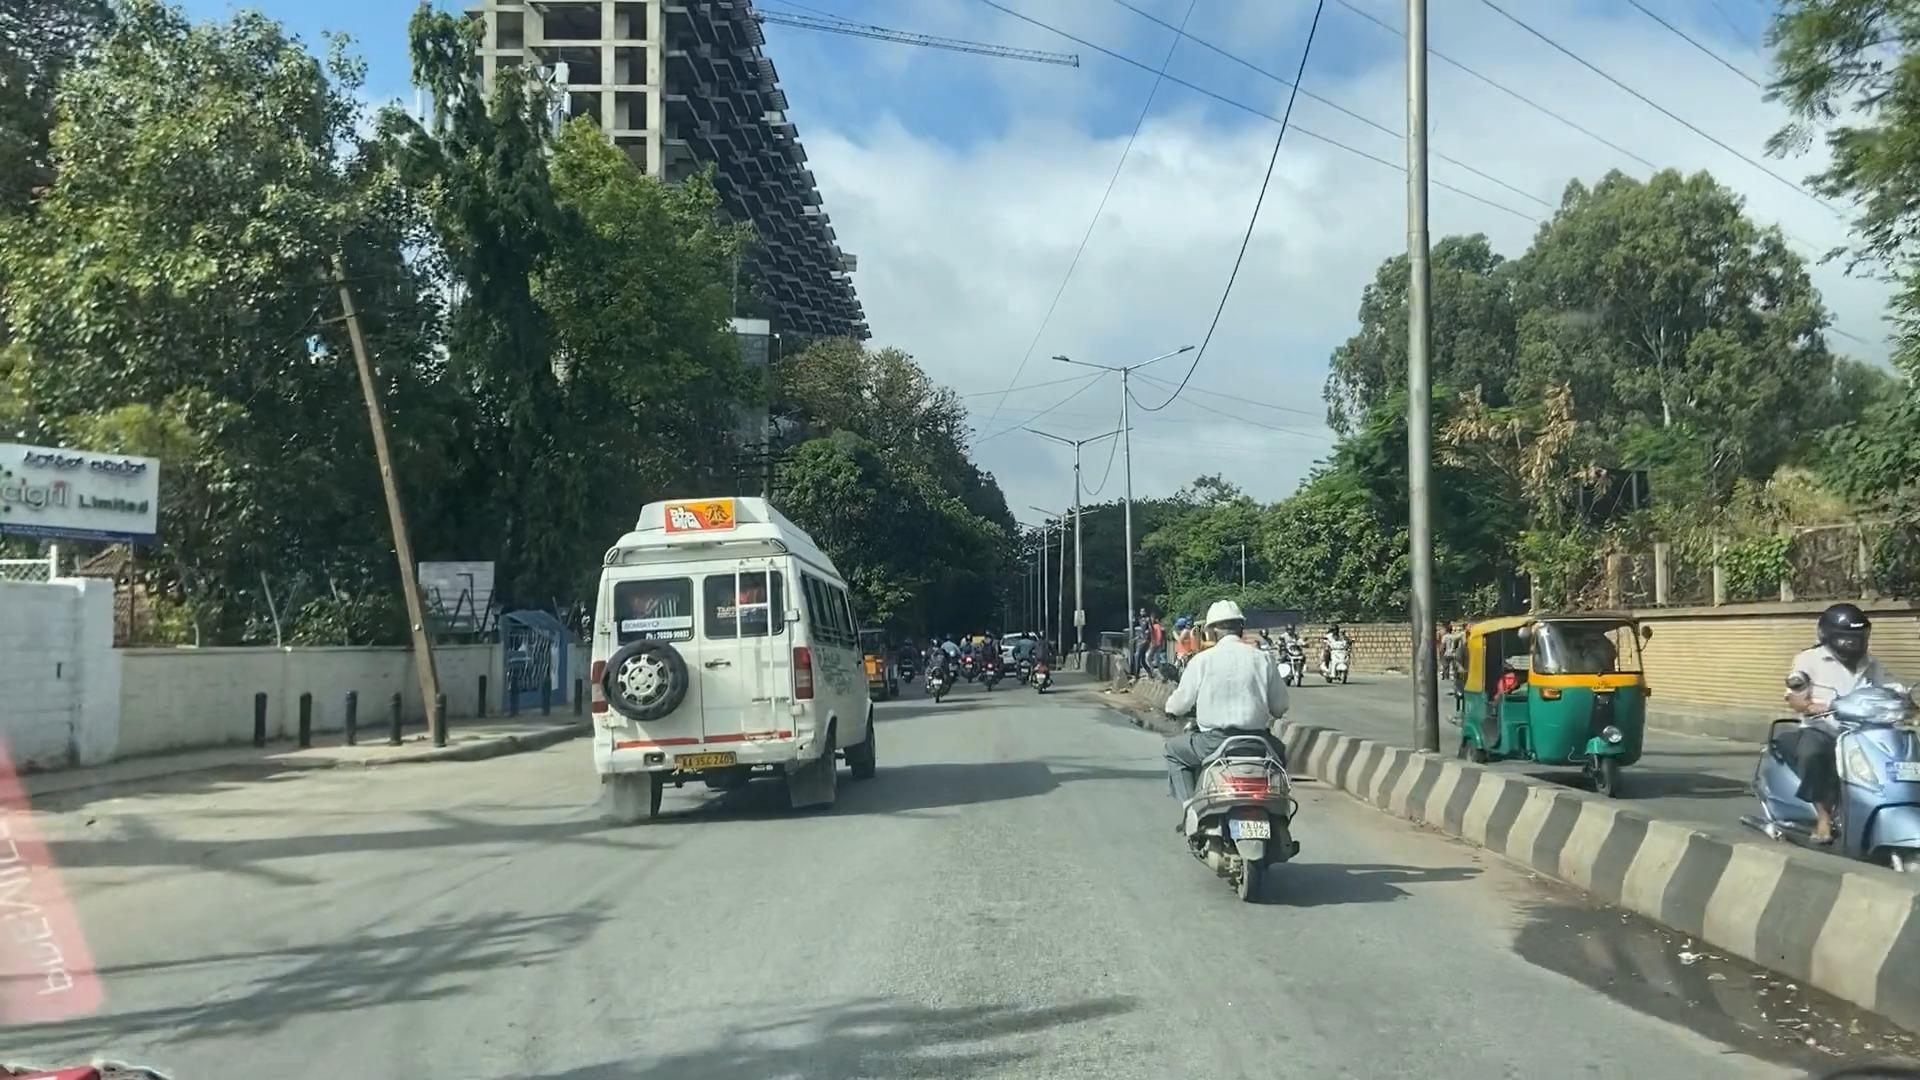HMV: (563, 493, 887, 827)
LMV: (1127, 583, 1309, 916)
